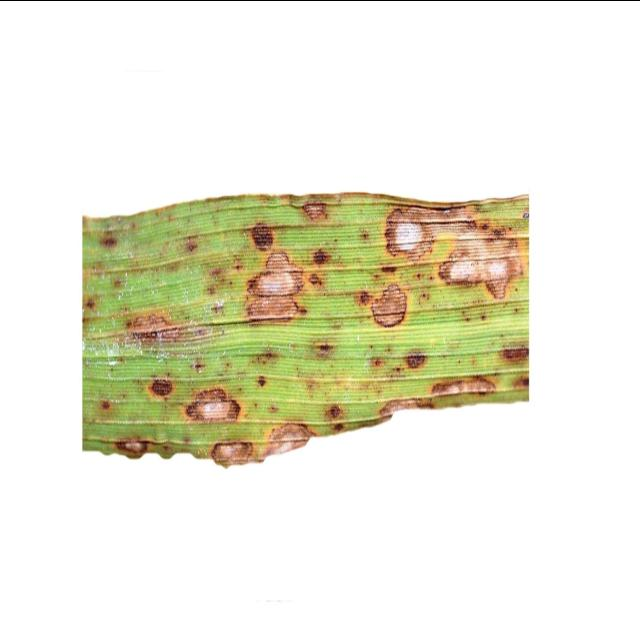Leaf blast: (26, 79, 572, 542)
